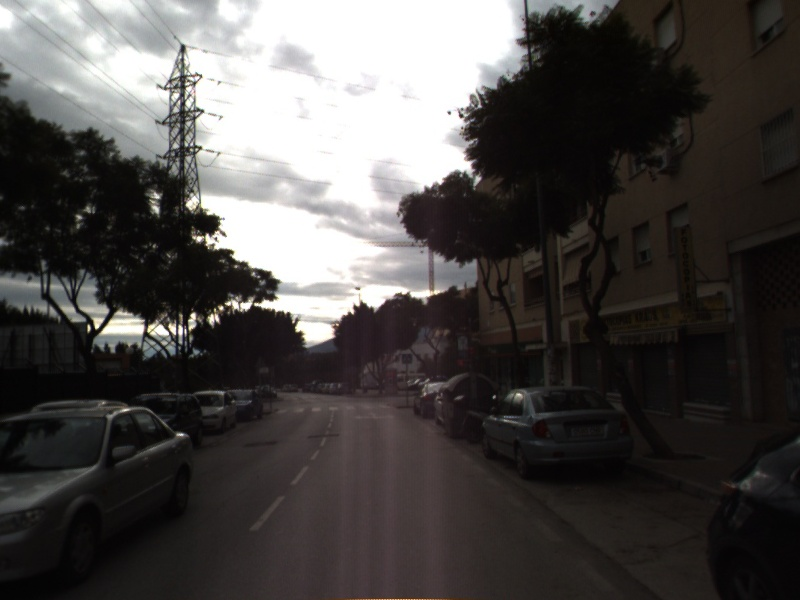STRAIGHT_LEFT_RIGHT: (352, 410, 397, 422)
